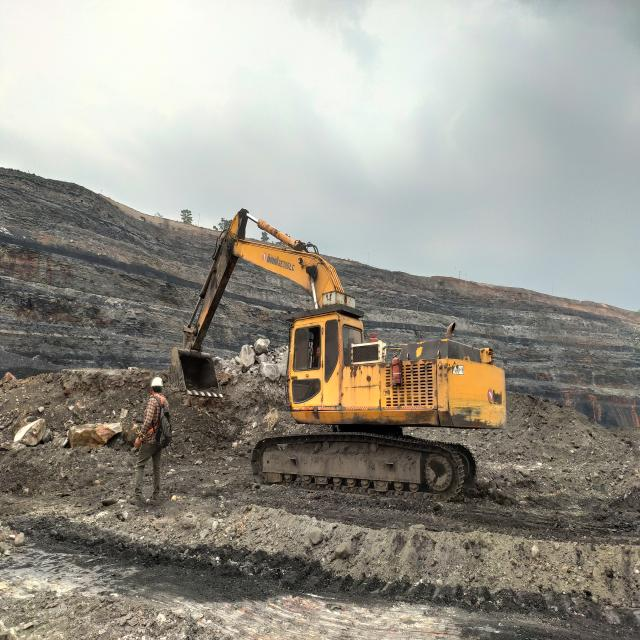excavator: (170, 210, 506, 500)
